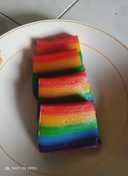kue_lapis_pelangi: (38, 105, 99, 153), (36, 71, 97, 106)
